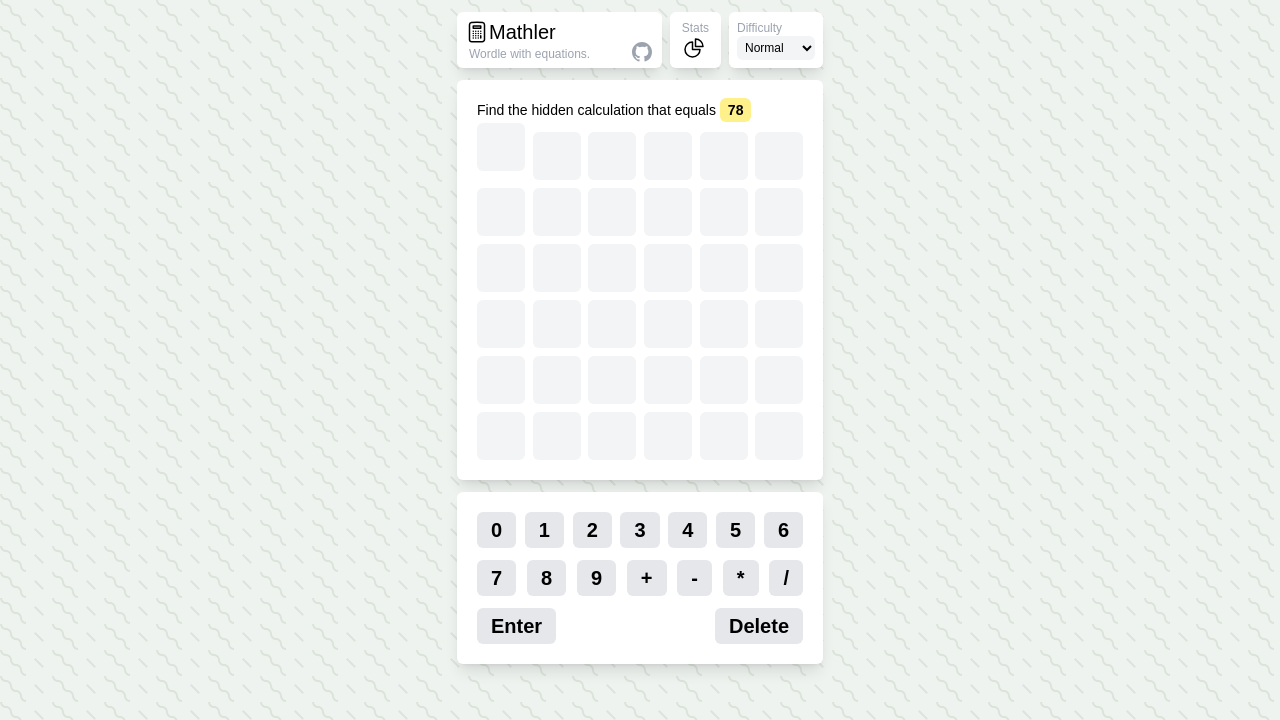
Board page with InputGrid and Success State › deletes the previous tile value
# Add and then delete the tile value
Click the button with test id "input-button-1".
click(545, 530)  # box [525,512,564,548]
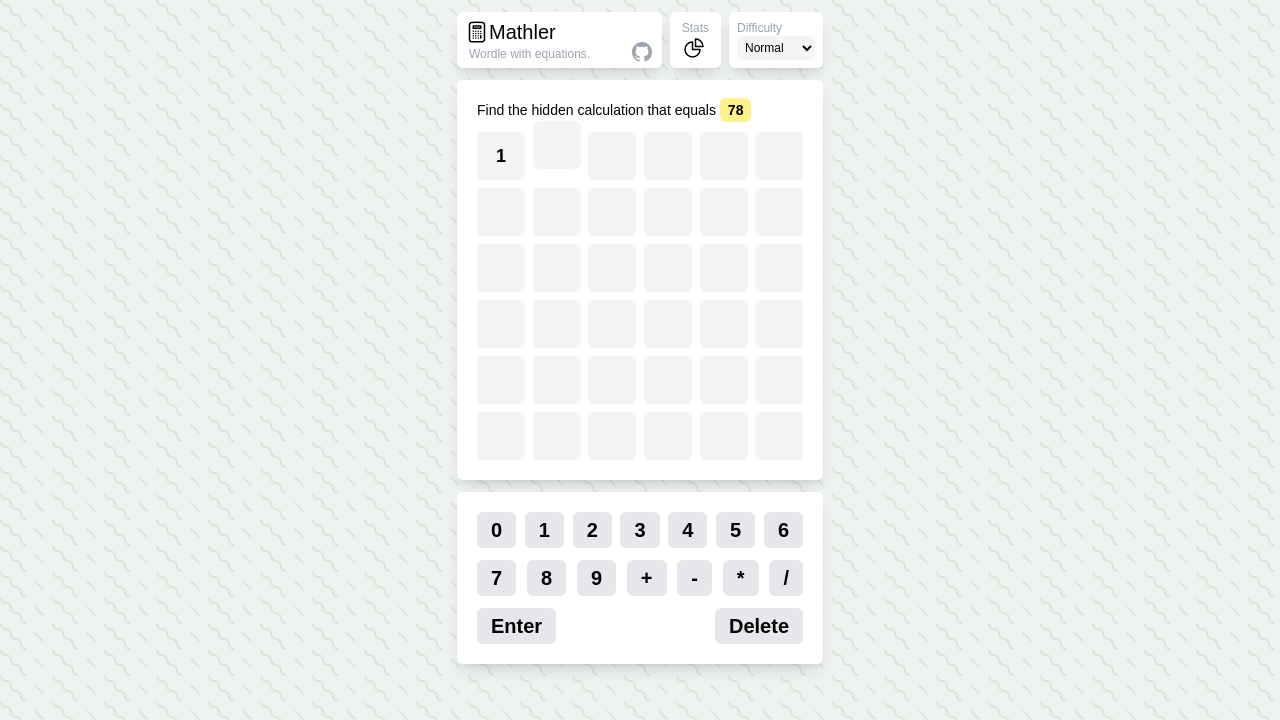
Click the button with test id "input-grid-delete-button".
click(759, 626)  # box [715,608,803,644]
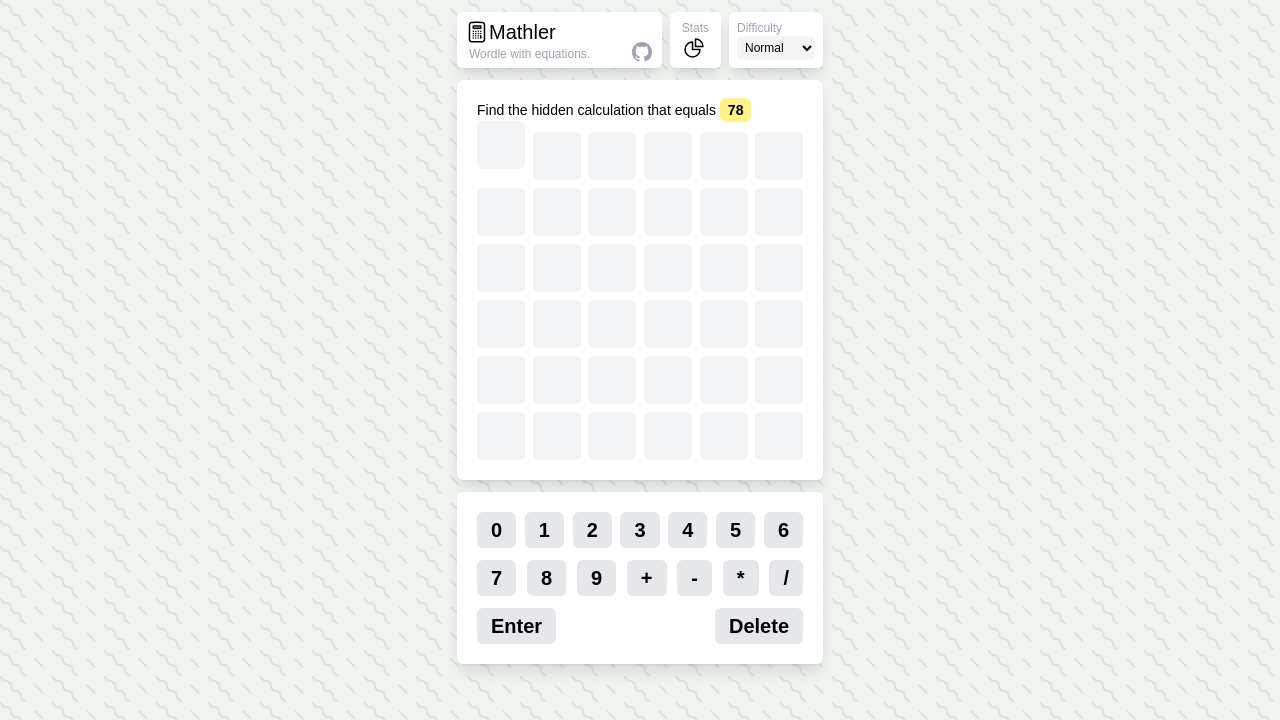
Result: the element with test id "board-values" no longer shows "1"
